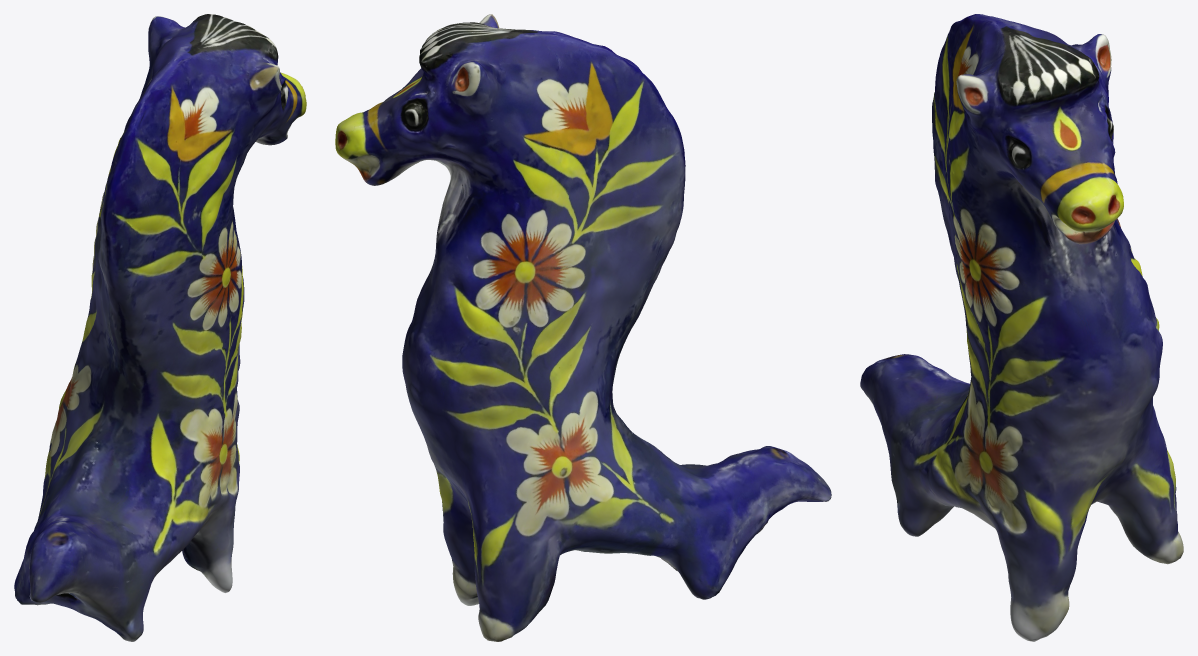
3 renders of one model, left to right at view 1: azimuth 30°, elevation 25°; view 2: azimuth 150°, elevation 25°; view 3: azimuth 270°, elevation 25°, orthographic. The views are drawn at different scales.
Bounding box in the file's own units: 0.6628 × 0.9529 × 0.4717.
Materials: 1 (1 with a texture image).
